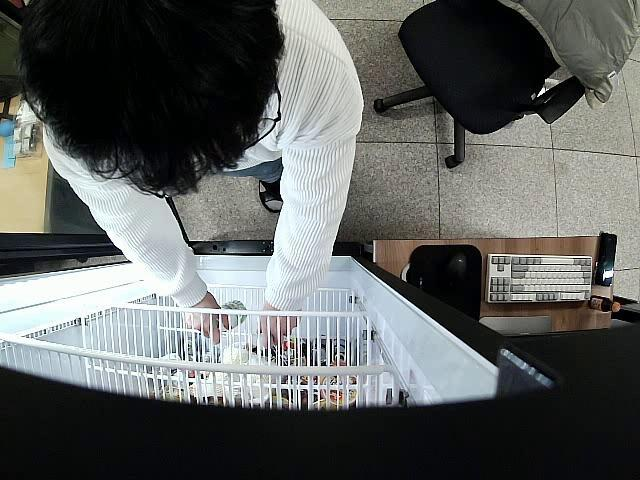18_trevi: (216, 300, 248, 332)
